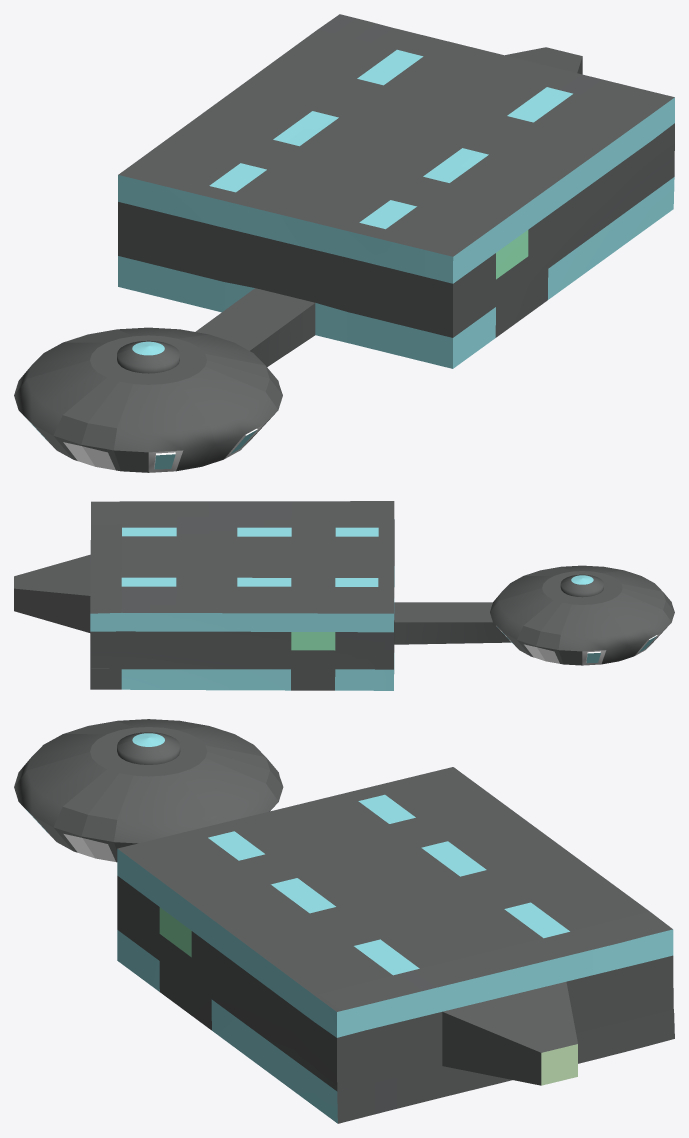
Rendered from FP Hub Separated FBX.fbx.
3 views of the same model, one above another, from view 1: azimuth 30°, elevation 25°; view 2: azimuth 150°, elevation 25°; view 3: azimuth 270°, elevation 25° (orthographic). The views are drawn at different scales.
Visible parts, largest first — view 1: Walls; view 2: Walls; view 3: Walls.
Part boxes in pixels (x1,y1,x2,y2): Walls: [14, 14, 674, 472]; Walls: [14, 501, 674, 690]; Walls: [14, 719, 674, 1123].
Bounding box in the file's own units: 766 × 112 × 587.
